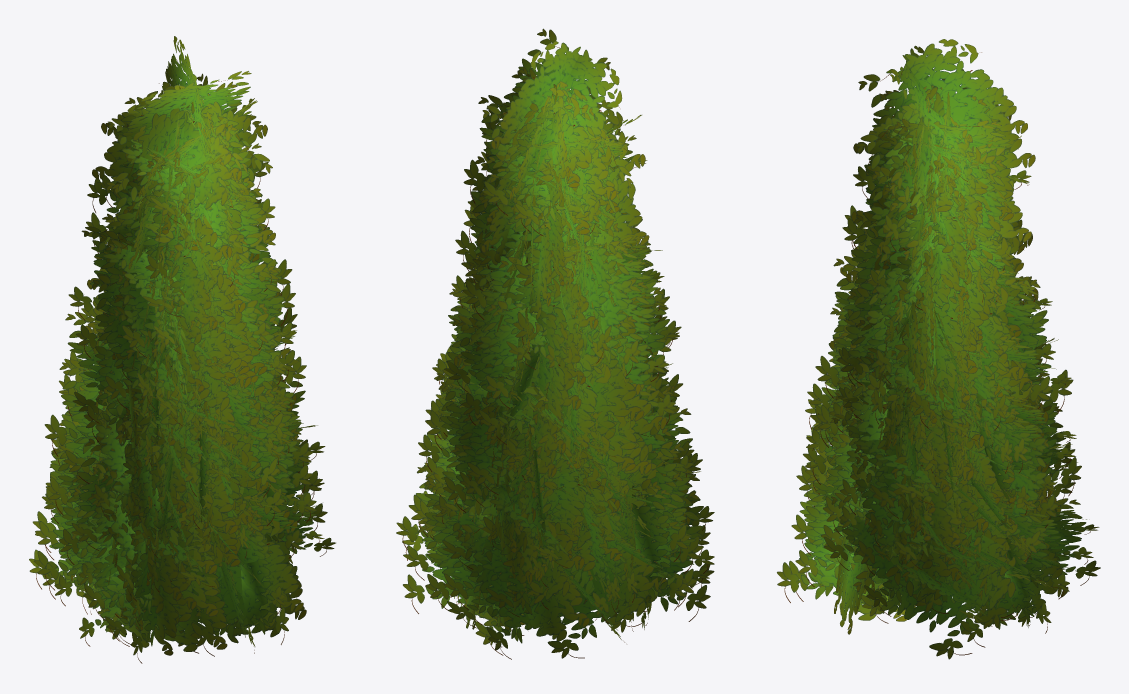
File: SM_Bush02.fbx
The picture shows the model from 3 angles, left to right: view 1: azimuth 30°, elevation 25°; view 2: azimuth 150°, elevation 25°; view 3: azimuth 270°, elevation 25°; orthographic projection.
Visible parts, largest first — view 1: SM_Bush02_LOD0; view 2: SM_Bush02_LOD0; view 3: SM_Bush02_LOD0.
Boxes of the visible parts, bbox=[...] form: SM_Bush02_LOD0: bbox=[29, 36, 335, 663]; SM_Bush02_LOD0: bbox=[396, 28, 714, 659]; SM_Bush02_LOD0: bbox=[777, 39, 1100, 659].
Size of the model in its own units: 200 by 201 by 391.
1 material, 1 textured.
